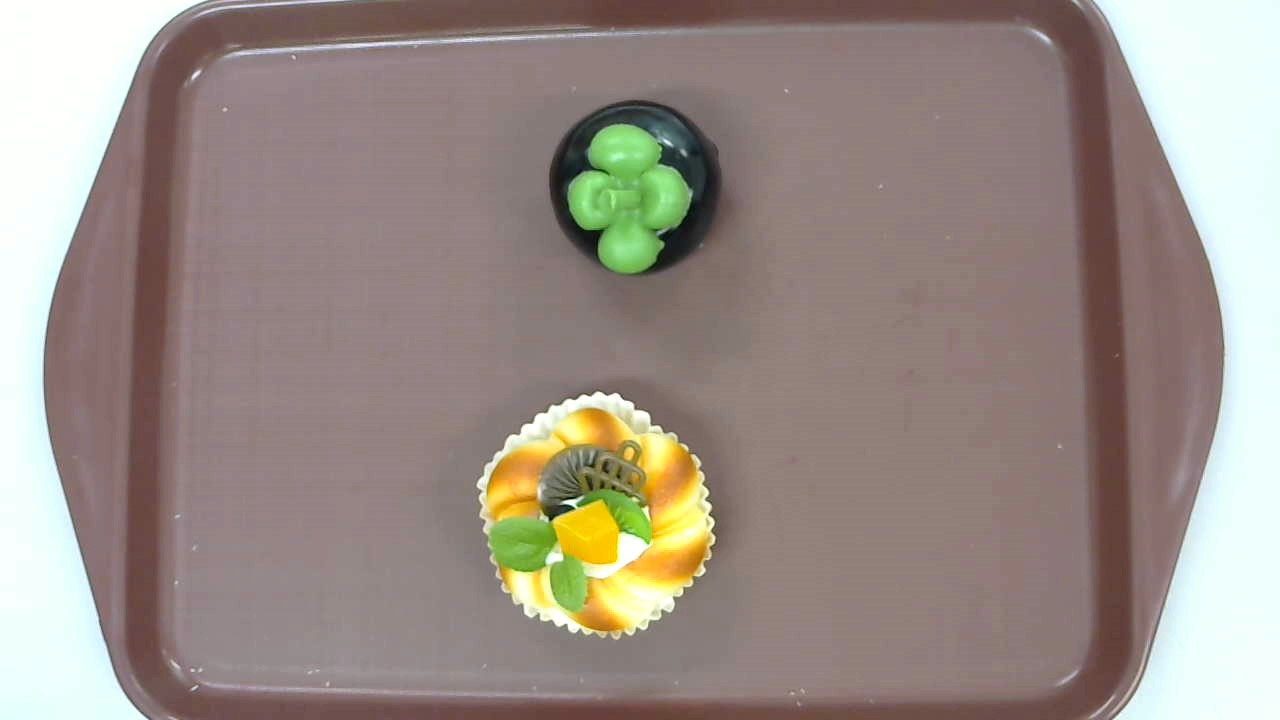fruit tart: (476, 392, 716, 640)
mangosteen: (549, 100, 721, 276)
